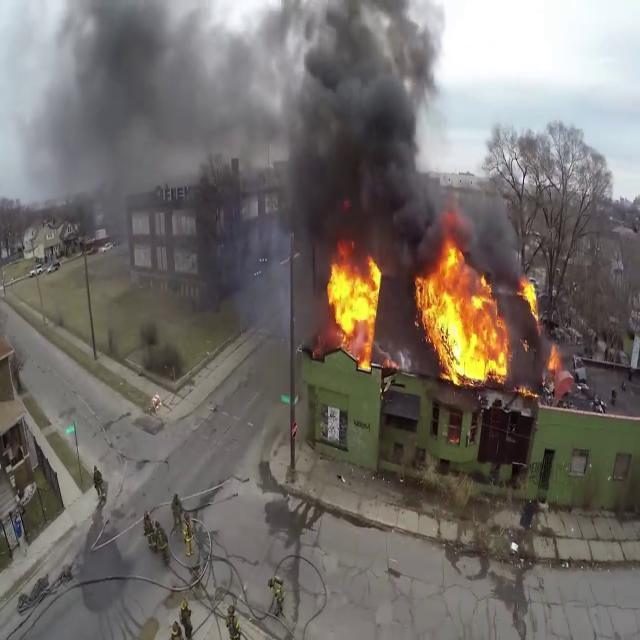Fire: (413, 240, 515, 388), (322, 250, 384, 366), (518, 274, 542, 320)
Smoke: (222, 0, 514, 270), (27, 0, 269, 223)
